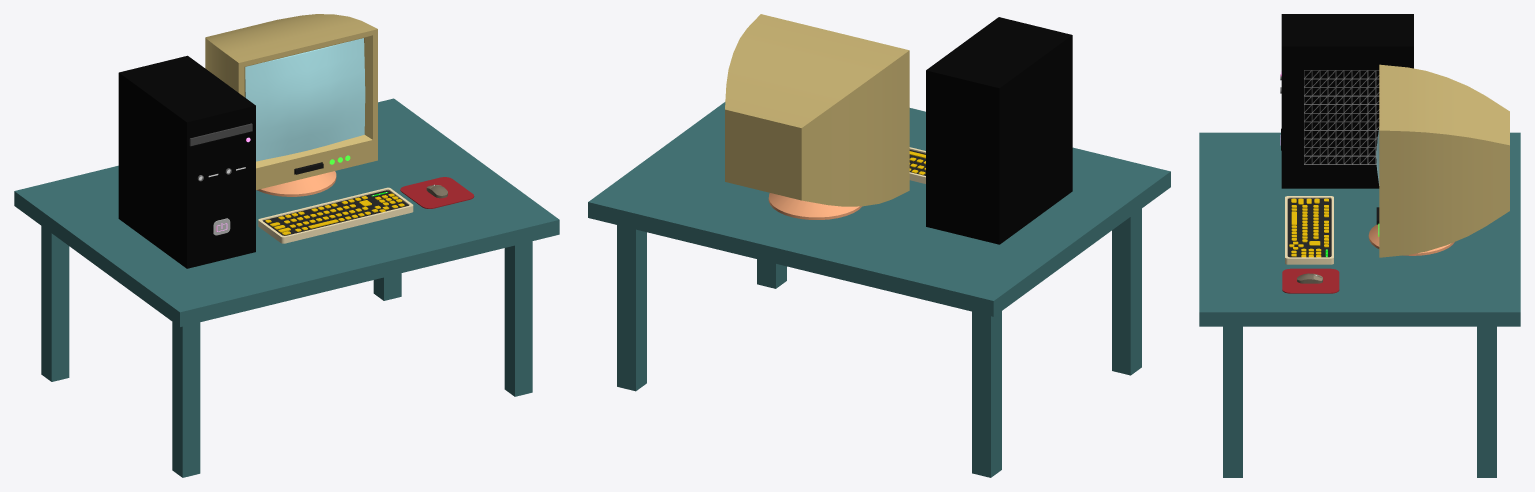
3 views of the same model, side by side, from view 1: azimuth 30°, elevation 25°; view 2: azimuth 150°, elevation 25°; view 3: azimuth 270°, elevation 25° (orthographic). The views are drawn at different scales.
Visible parts, largest first — view 1: Cube.075, Cube.076, Cube.074, Cube.070, Cube.077, Plane, Circle.013; view 2: Cube.075, Cube.070, Cube.076, Circle.013; view 3: Cube.075, Cube.070, Cube.076, Cube.099, Cube.077, Plane, Circle.013.
Boxes of the visible parts, <box> form: Cube.075: <box>14,98,559,477</box>; Cube.076: <box>118,55,255,268</box>; Cube.074: <box>245,38,365,161</box>; Cube.070: <box>205,14,377,189</box>; Cube.077: <box>258,187,413,243</box>; Plane: <box>400,177,474,208</box>; Circle.013: <box>257,171,336,196</box>; Cube.075: <box>588,102,1170,477</box>; Cube.070: <box>725,14,909,206</box>; Cube.076: <box>926,17,1072,244</box>; Circle.013: <box>768,193,862,219</box>; Cube.075: <box>1199,132,1520,477</box>; Cube.070: <box>1379,64,1509,257</box>; Cube.076: <box>1281,14,1413,188</box>; Cube.099: <box>1304,70,1379,164</box>; Cube.077: <box>1285,196,1333,264</box>; Plane: <box>1282,268,1339,293</box>; Circle.013: <box>1368,224,1454,255</box>.
Bounding box in the file's own units: 107 × 87.27 × 80.69.
